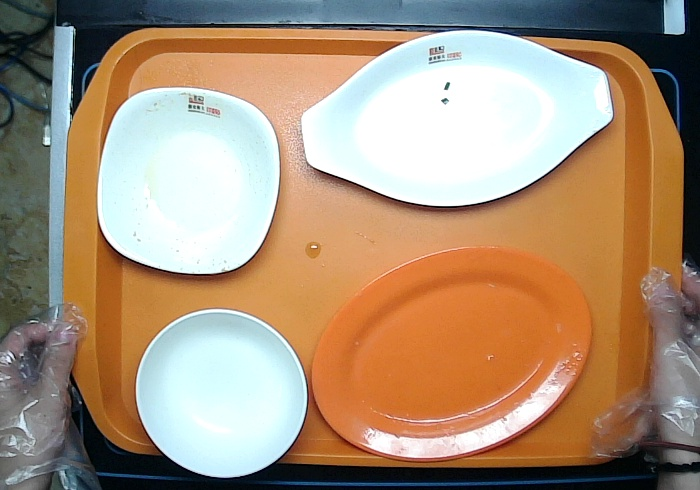NLDX-Bai_Se_Xiao_Fang_Die: (97, 87, 282, 275)
NLDX-Fan_Wan: (135, 308, 308, 480)
NLDX-Ju_Se_Pan: (311, 246, 595, 463)
NLDX-Yu_Pan: (298, 29, 616, 209)
